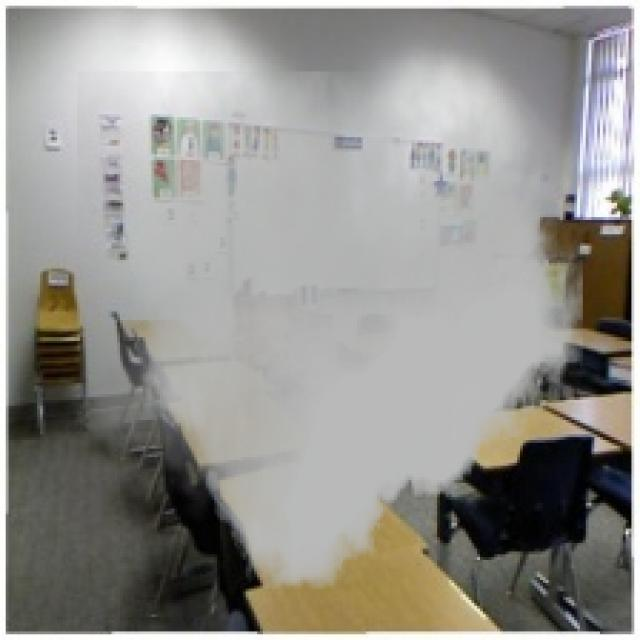smoke: (77, 71, 592, 588)
